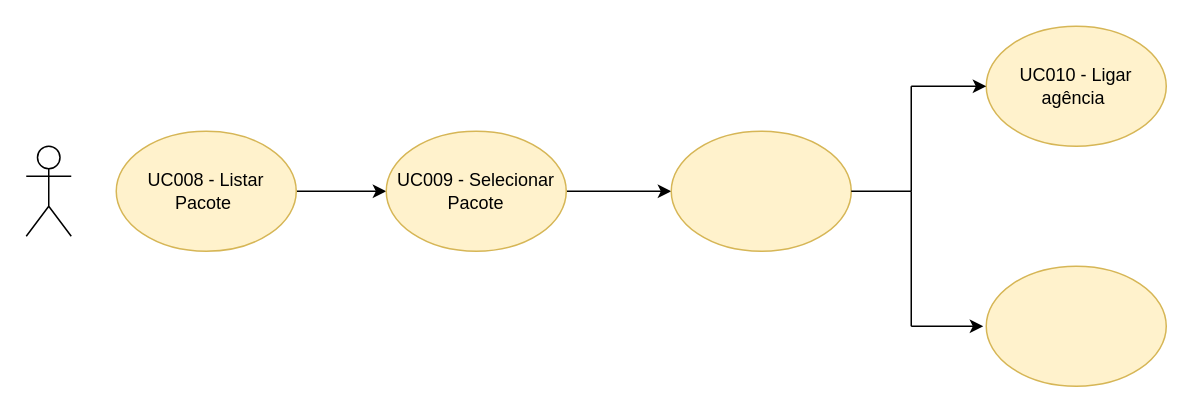
The diagram is 1193 pixels wide and 413 high, and some of its shapes have lost their labels. The box of each missing label's shape, as (x1, y1, x2, y2) in pixels:
Actor: (25, 145, 71, 236)
UC012 - Detalhes pacote: (670, 130, 851, 251)
